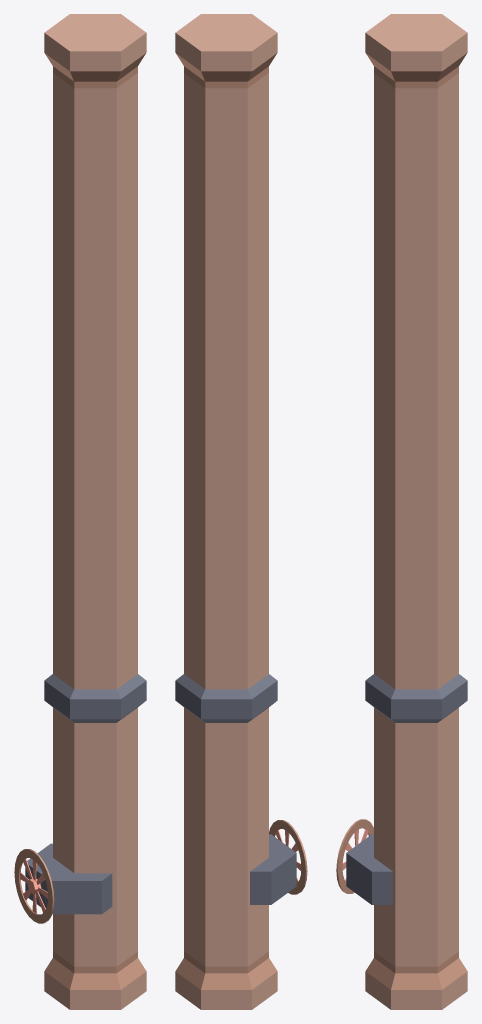
Rendered from RealPipe.fbx.
3 views of the same model, side by side, from view 1: azimuth 30°, elevation 25°; view 2: azimuth 210°, elevation 25°; view 3: azimuth 330°, elevation 25° (orthographic).
Visible parts, largest first — view 1: RealPipe; view 2: RealPipe; view 3: RealPipe.
Part boxes in pixels (x1,y1,x2,y2): RealPipe: (14, 14, 146, 1009); RealPipe: (175, 14, 307, 1009); RealPipe: (336, 14, 467, 1009).
Size of the model in its own units: 160 by 1434 by 139.
